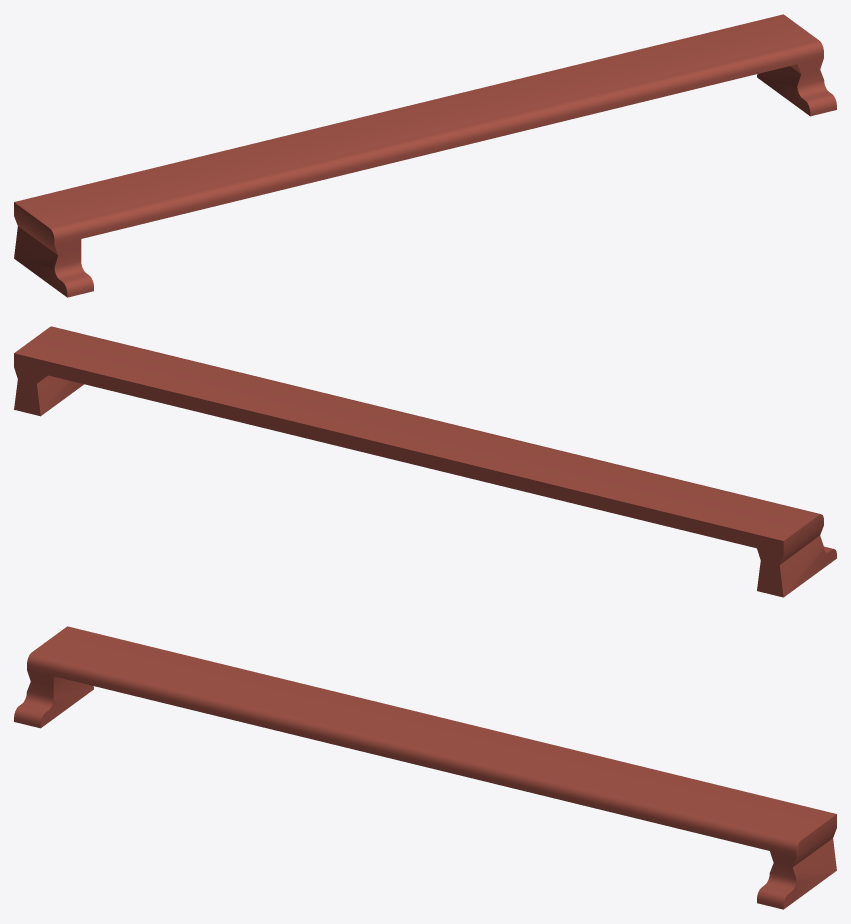
Rendered from Ltahtaust.fbx.
3 views of the same model, one above another, from view 1: azimuth 30°, elevation 25°; view 2: azimuth 150°, elevation 25°; view 3: azimuth 330°, elevation 25° (orthographic).
Parts seen in each view (by area): view 1: masaüstservis; view 2: masaüstservis; view 3: masaüstservis.
Part boxes in pixels (x1=…): masaüstservis: x1=14, y1=14, x2=836, y2=297; masaüstservis: x1=14, y1=326, x2=836, y2=597; masaüstservis: x1=14, y1=626, x2=836, y2=909.
Bounding box in the file's own units: 5972 × 419 × 718.
